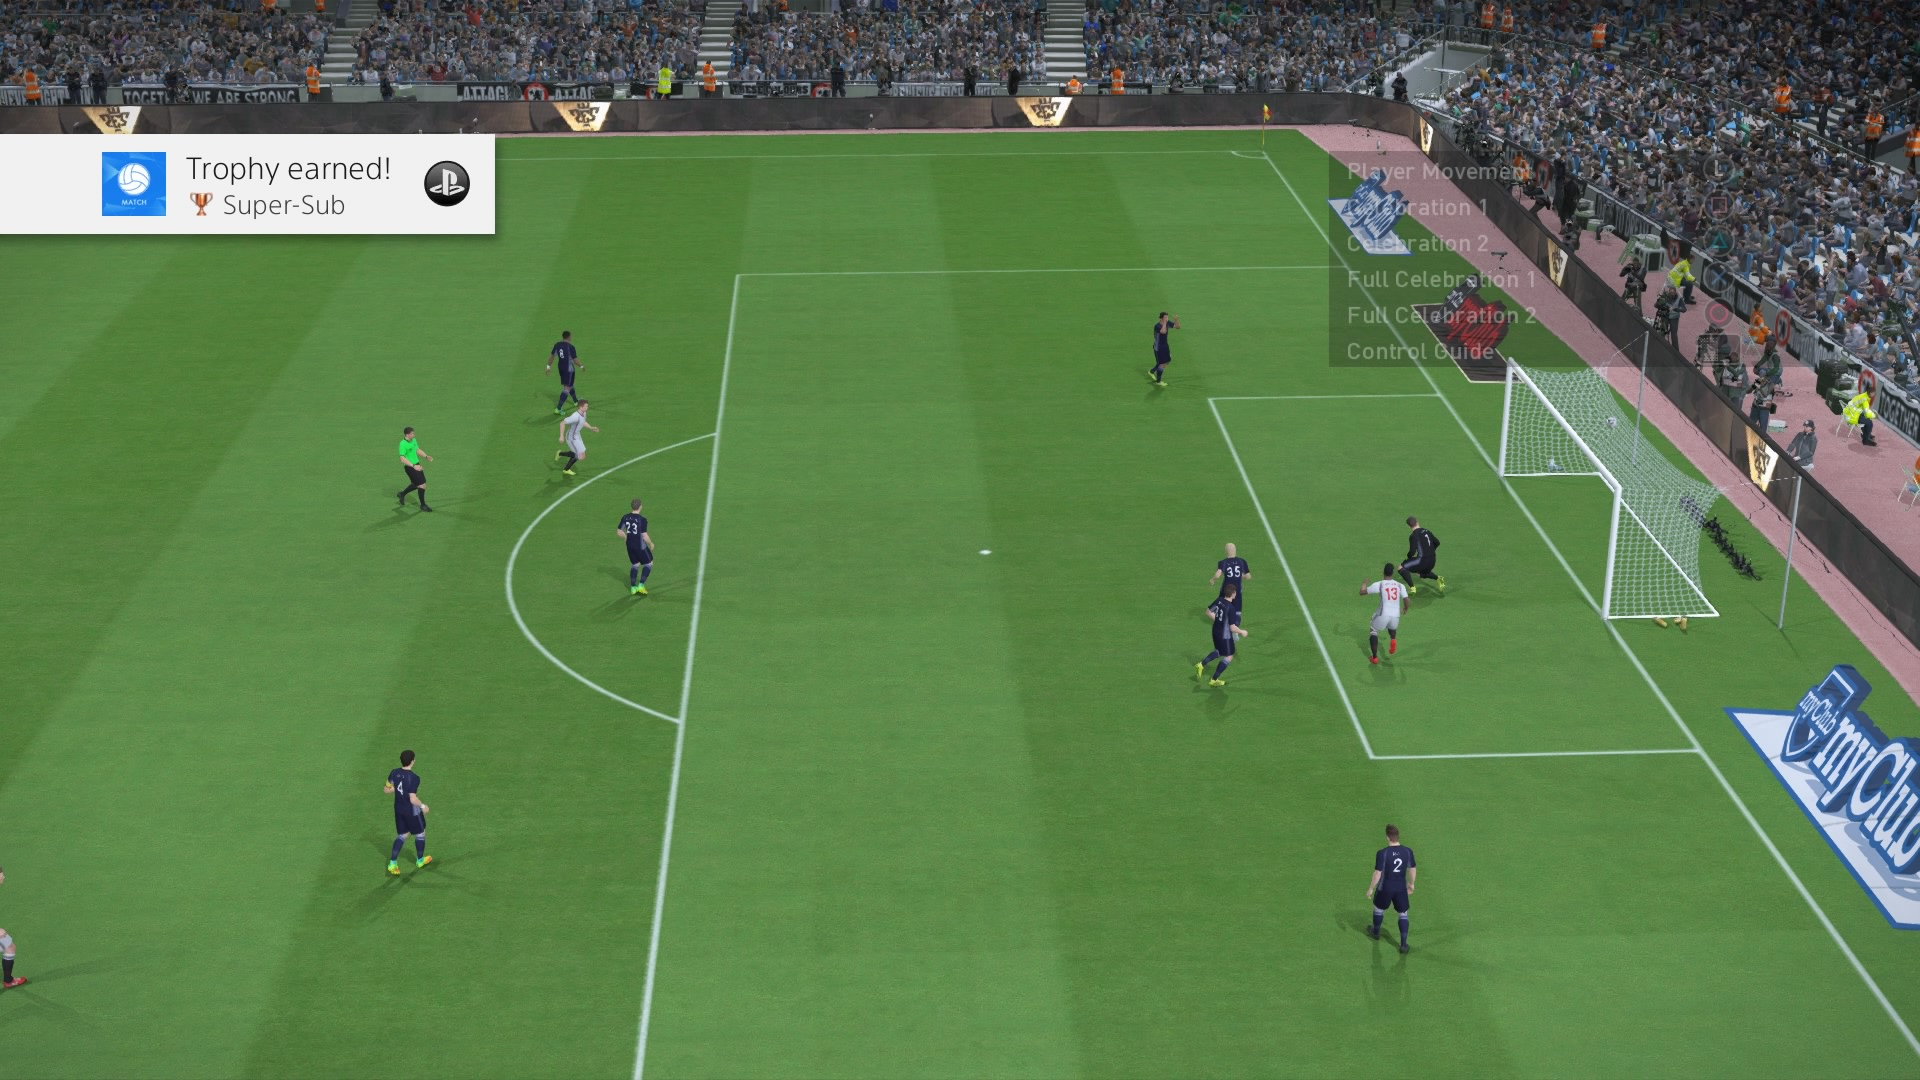ball: (1605, 413, 1625, 432)
goal: (1506, 347, 1794, 635)
player: (382, 752, 449, 876), (1369, 825, 1419, 955), (616, 497, 666, 603), (1364, 560, 1408, 660), (1205, 587, 1245, 690), (1210, 544, 1250, 641), (1408, 518, 1454, 597), (549, 331, 582, 411), (1150, 305, 1180, 390), (563, 403, 592, 479)
